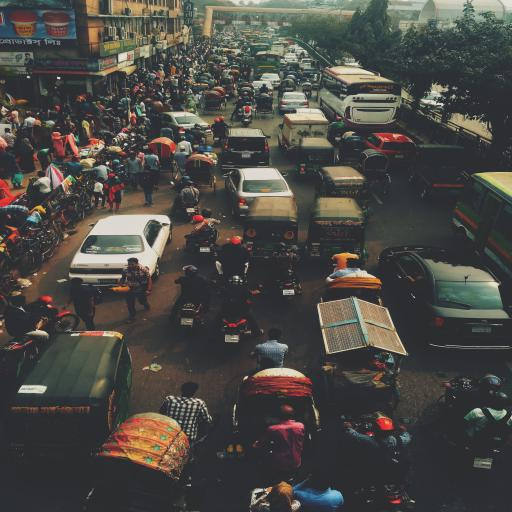bicycle: (22, 240, 56, 275), (50, 210, 80, 239), (71, 190, 95, 220)
bus: (449, 171, 512, 277), (317, 66, 403, 131), (253, 52, 281, 79), (250, 44, 272, 54), (274, 42, 290, 54), (268, 38, 287, 44), (256, 37, 272, 43), (248, 35, 260, 41), (286, 39, 296, 45), (242, 32, 253, 37), (253, 30, 262, 35)
car: (376, 244, 512, 354), (68, 215, 174, 287), (225, 169, 299, 217), (362, 133, 422, 161), (157, 111, 215, 138), (252, 81, 275, 96), (260, 74, 282, 87), (309, 75, 325, 91), (302, 68, 320, 80), (300, 59, 313, 69), (298, 51, 310, 58), (284, 57, 299, 62), (281, 59, 287, 70), (285, 54, 299, 58), (294, 49, 304, 53), (290, 46, 298, 51)
human hauler: (223, 50, 236, 58)
minivan: (219, 128, 272, 170)
motorbike: (342, 414, 419, 512), (441, 373, 508, 475), (1, 298, 80, 364), (217, 284, 260, 345), (176, 274, 215, 333), (265, 254, 305, 301), (217, 248, 251, 286), (170, 181, 202, 221), (195, 221, 220, 255), (212, 124, 231, 144), (329, 124, 345, 147), (192, 134, 207, 152), (233, 103, 248, 119), (242, 109, 255, 127), (257, 87, 271, 97), (304, 87, 315, 99), (242, 68, 250, 77), (297, 76, 304, 86), (300, 55, 307, 59)
pickup: (410, 145, 471, 204), (278, 114, 333, 149), (271, 46, 285, 58)
rickshaw: (86, 411, 205, 511), (226, 359, 324, 432), (324, 265, 383, 307), (354, 149, 392, 196), (182, 155, 220, 194), (146, 137, 180, 180), (336, 138, 368, 164), (254, 95, 275, 120), (203, 92, 223, 117), (214, 88, 229, 111), (281, 79, 297, 92), (241, 88, 255, 100), (220, 78, 235, 88), (229, 70, 242, 78), (312, 60, 322, 70), (234, 58, 244, 66), (248, 57, 256, 65), (203, 74, 213, 79), (232, 66, 242, 71), (216, 49, 224, 55), (243, 56, 250, 62), (230, 54, 238, 59), (215, 59, 223, 64), (289, 76, 298, 80), (238, 53, 245, 58), (223, 45, 230, 50), (231, 46, 238, 50), (213, 56, 220, 59)
three wheelers (CNG): (12, 330, 135, 448), (310, 197, 374, 263), (315, 167, 377, 219), (243, 197, 301, 252), (296, 137, 338, 177), (287, 61, 301, 71)
wheelbarrow: (316, 299, 405, 410)
